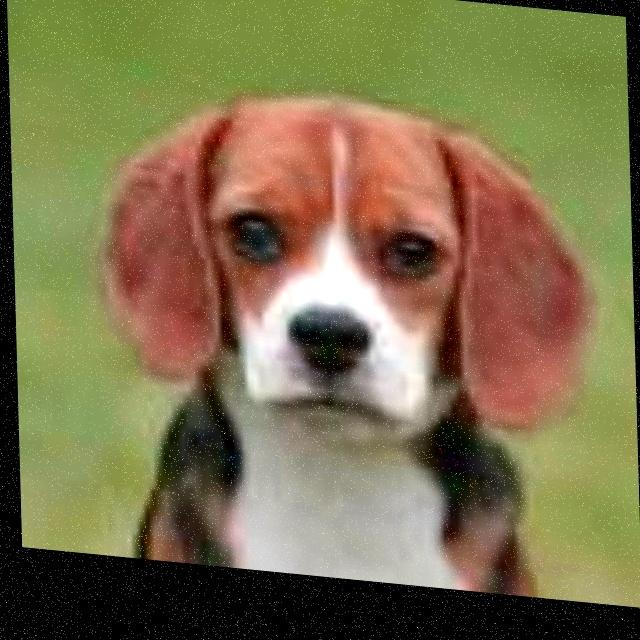dog: (79, 52, 607, 495)
